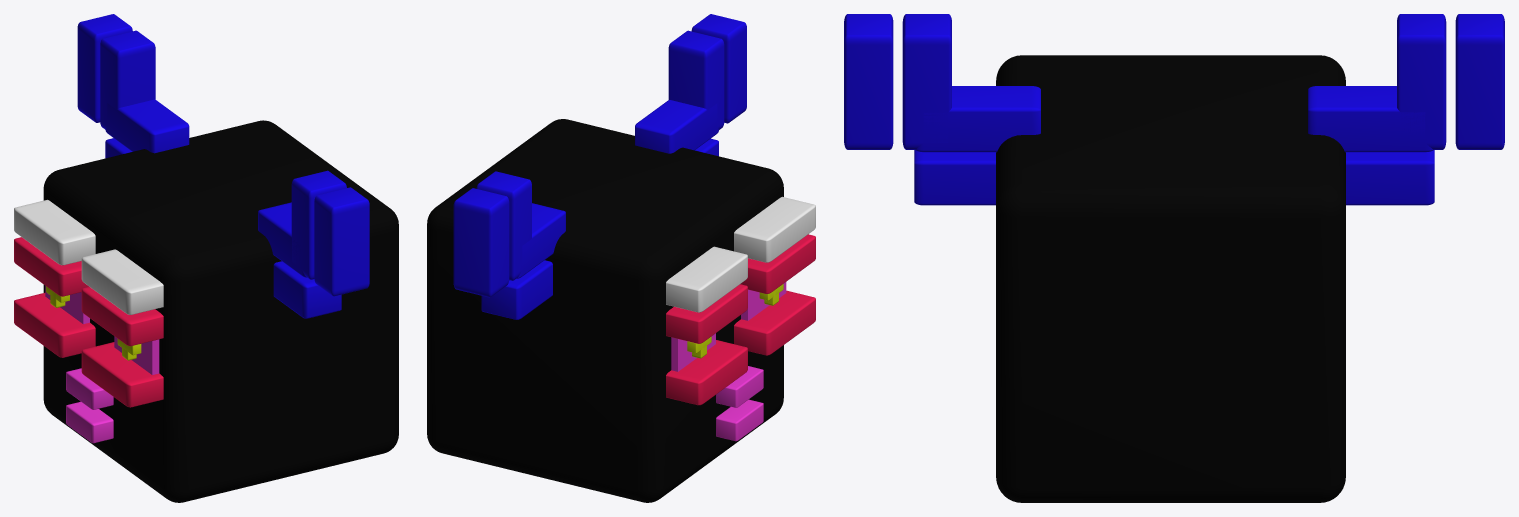
Rendered from head.glb.glb.
3 renders of one model, left to right at view 1: azimuth 30°, elevation 25°; view 2: azimuth 150°, elevation 25°; view 3: azimuth 270°, elevation 25°, orthographic. The views are drawn at different scales.
Parts seen in each view (by area): view 1: M_TOP; view 2: M_TOP; view 3: M_TOP.
Boxes of the visible parts, x1=… form: M_TOP: x1=14, y1=14, x2=398, y2=502; M_TOP: x1=427, y1=14, x2=815, y2=502; M_TOP: x1=844, y1=14, x2=1504, y2=502.
Size of the model in its own units: 2.29 by 2.62 by 3.78.
